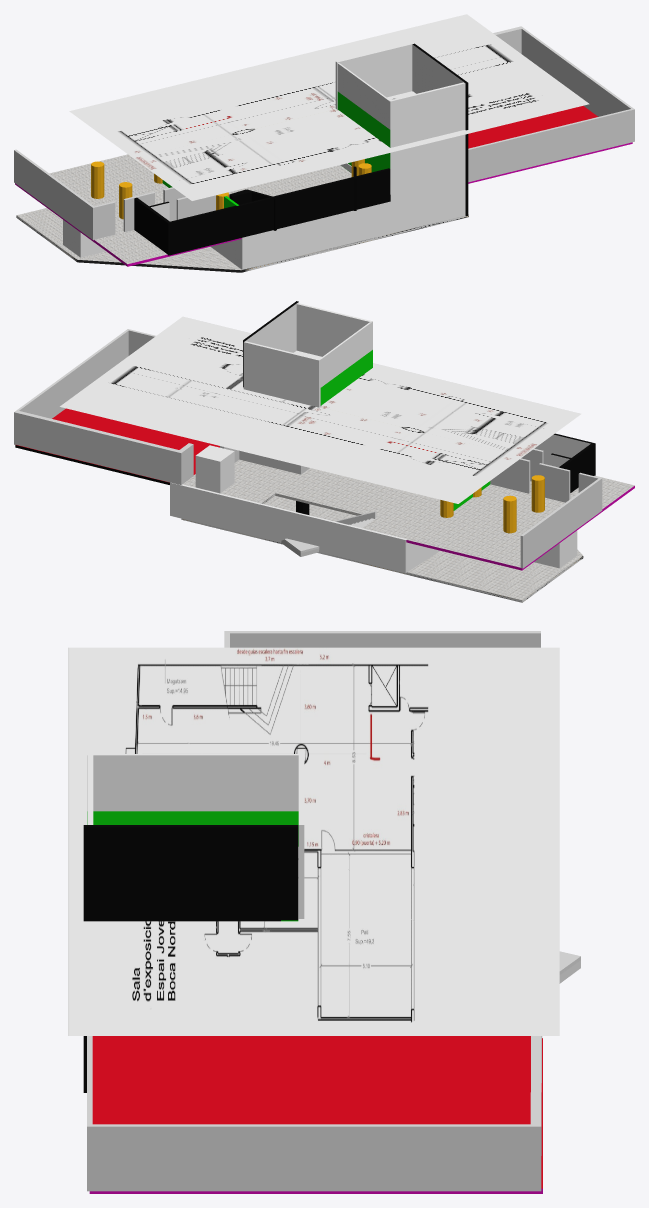
The model's file is bocanord-0.5.glb.
3 views of the same model, one above another, from view 1: azimuth 30°, elevation 25°; view 2: azimuth 150°, elevation 25°; view 3: azimuth 270°, elevation 25° (orthographic). The views are drawn at different scales.
Visible parts, largest first — view 1: WhatsApp Image 2021-10-09 at 08.57.33, south-wall-patio, wall-concert-hall, back-wall, floor 1er piso, floor, default-wall.005, bar-wall, south-wall-glass, east-wall, south-wall-bucs, default-wall.004 (+4 smaller); view 2: WhatsApp Image 2021-10-09 at 08.57.33, floor 1er piso, wall-concert-hall, north-wall, floor, south-wall-glass, default-wall.005, bar-wall, south-wall-patio, back-wall, elevator, east-wall (+7 smaller); view 3: WhatsApp Image 2021-10-09 at 08.57.33, floor 1er piso, wall-concert-hall, east-wall, bar-wall, default-wall.005, south-wall-glass.
Boxes of the visible parts, box(x1,y1,x2,y2) form: WhatsApp Image 2021-10-09 at 08.57.33: box(69, 14, 589, 200); south-wall-patio: box(211, 82, 464, 269); wall-concert-hall: box(468, 26, 634, 182); back-wall: box(134, 168, 390, 255); floor 1er piso: box(15, 106, 632, 266); floor: box(16, 208, 468, 272); default-wall.005: box(14, 149, 115, 240); bar-wall: box(337, 63, 391, 194); south-wall-glass: box(335, 43, 412, 109); east-wall: box(412, 43, 468, 216); south-wall-bucs: box(63, 220, 105, 257); default-wall.004: box(176, 195, 215, 219); WhatsApp Image 2021-10-09 at 08.57.33: box(60, 316, 580, 503); floor 1er piso: box(15, 408, 634, 570); wall-concert-hall: box(14, 329, 193, 484); north-wall: box(170, 482, 406, 573); floor: box(181, 496, 583, 602); south-wall-glass: box(243, 341, 320, 407); default-wall.005: box(520, 472, 602, 568); bar-wall: box(317, 321, 372, 407); south-wall-patio: box(296, 303, 372, 356); back-wall: box(534, 433, 595, 492); elevator: box(195, 445, 234, 493); east-wall: box(243, 301, 298, 387); WhatsApp Image 2021-10-09 at 08.57.33: box(68, 647, 559, 1035); floor 1er piso: box(89, 1036, 542, 1193); wall-concert-hall: box(87, 1036, 541, 1191); east-wall: box(83, 825, 298, 1092); bar-wall: box(87, 754, 298, 846); default-wall.005: box(224, 631, 540, 647); south-wall-glass: box(298, 751, 304, 918).
Size of the model in its own units: 41.11 by 10.48 by 18.
Materials: 10 (4 with a texture image).
